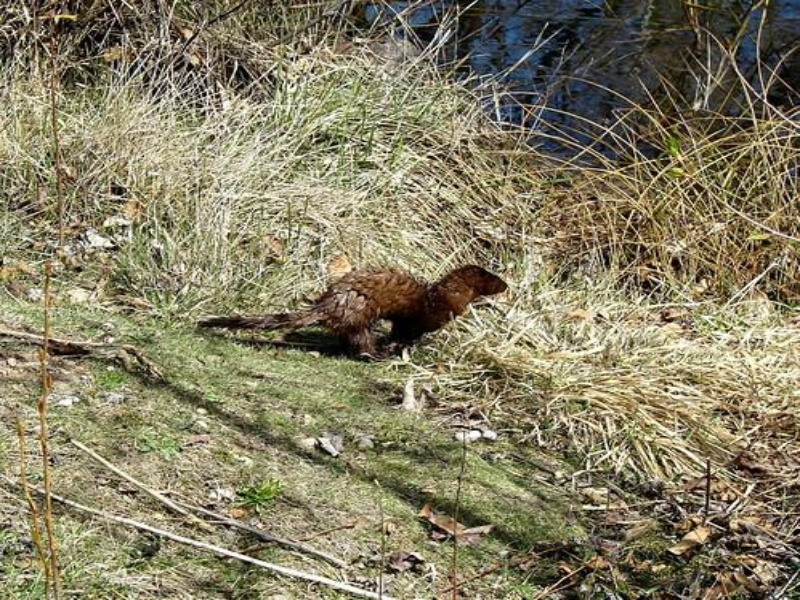minkish: (193, 263, 512, 360)
